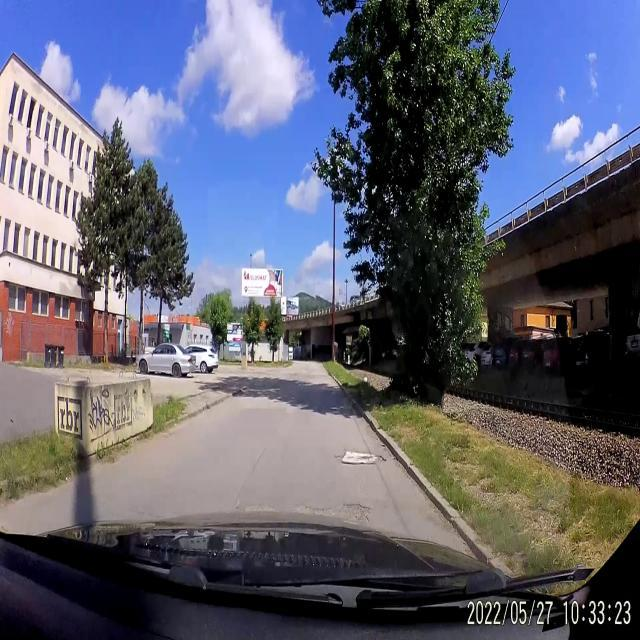Pothole: (320, 498, 374, 524), (336, 446, 381, 469)
